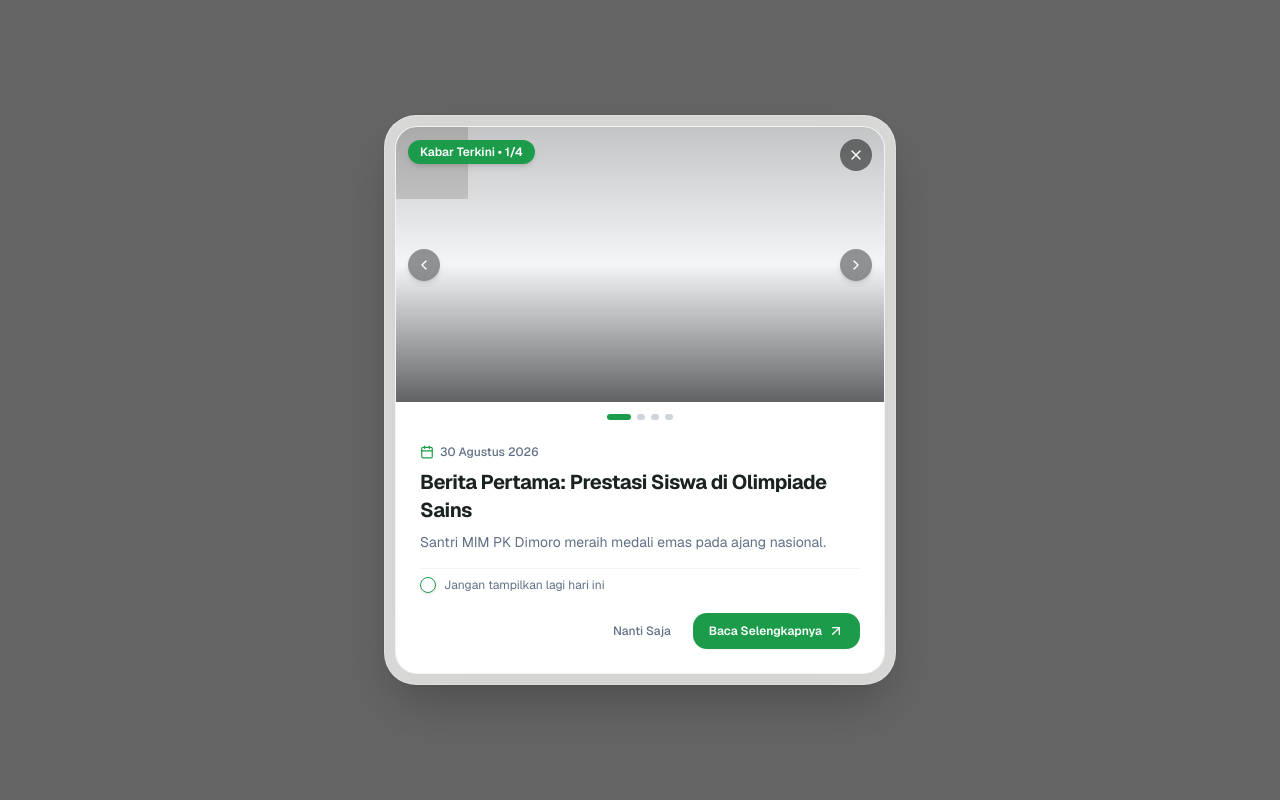
Test: NewsSpotlightModal Component (TDD) › advances currentIndex on next button click and wraps around from last to first
Expected: the heading "Berita Pertama: Prestasi Siswa di Olimpiade Sains" is shown, [420, 468, 860, 524]
Click the button named "berita selanjutnya" at (856, 264), box [840, 248, 872, 280]
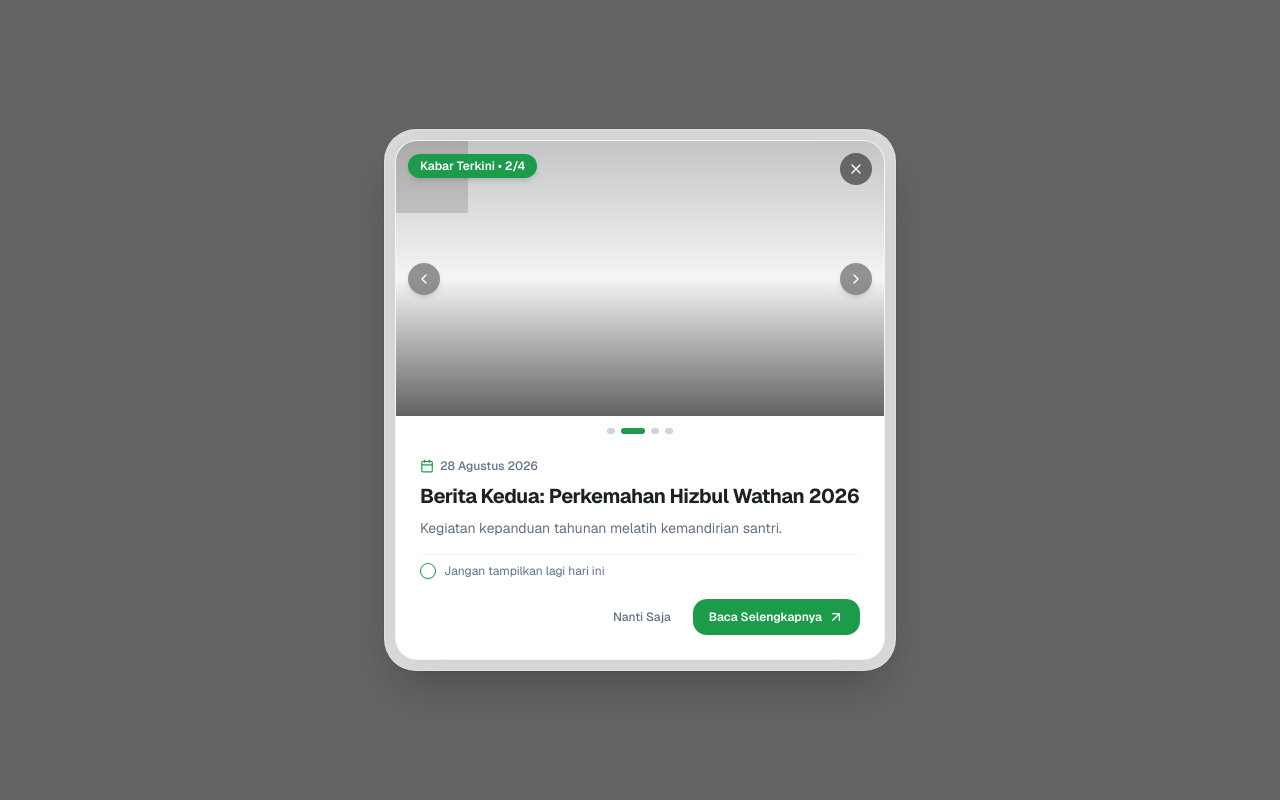
Now the heading "Berita Kedua: Perkemahan Hizbul Wathan 2026" is shown, box [420, 482, 860, 510]
Now the text "Kabar Terkini • 2/4" is shown, box [408, 154, 537, 178]
Click the button named "berita selanjutnya" at (856, 278), box [840, 262, 872, 294]
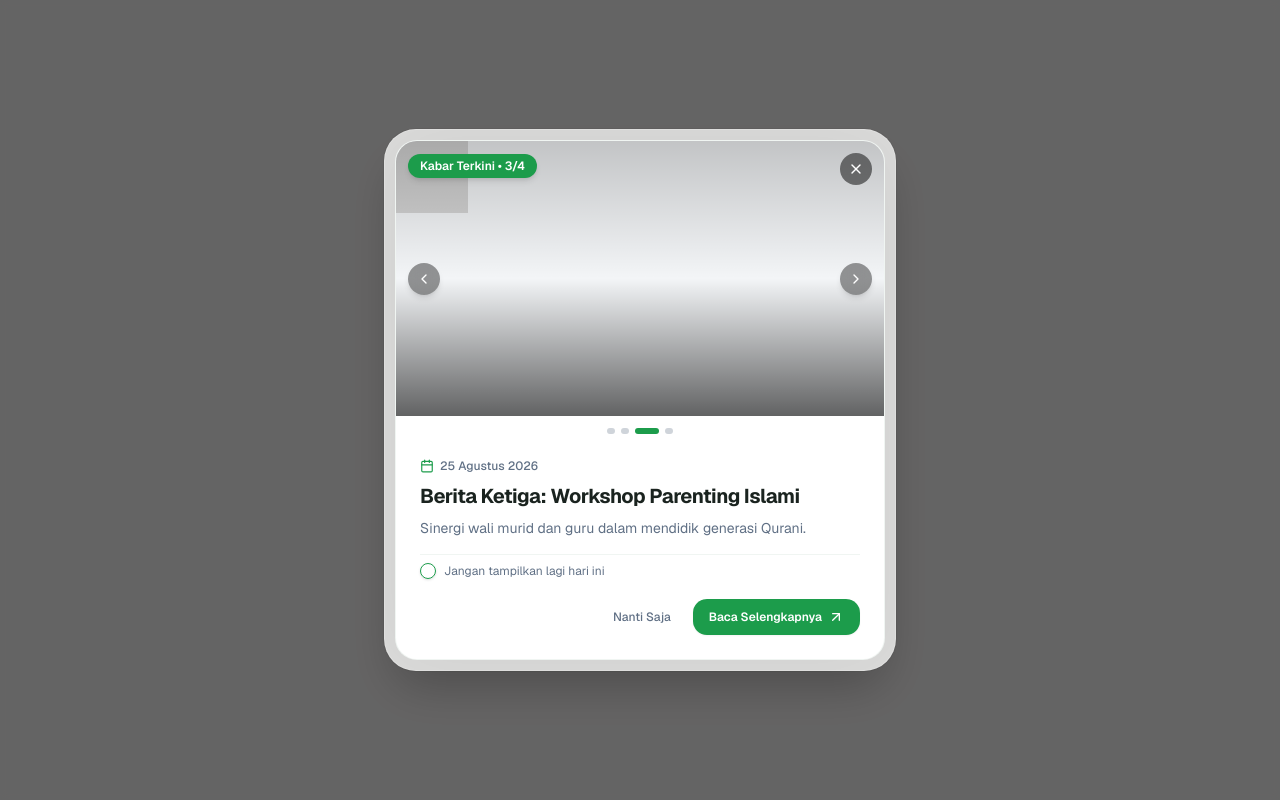
Now the heading "Berita Ketiga: Workshop Parenting Islami" is shown, box [420, 482, 860, 510]
Now the text "Kabar Terkini • 3/4" is shown, box [408, 154, 537, 178]
Click the button named "berita selanjutnya" at (856, 278), box [840, 262, 872, 294]
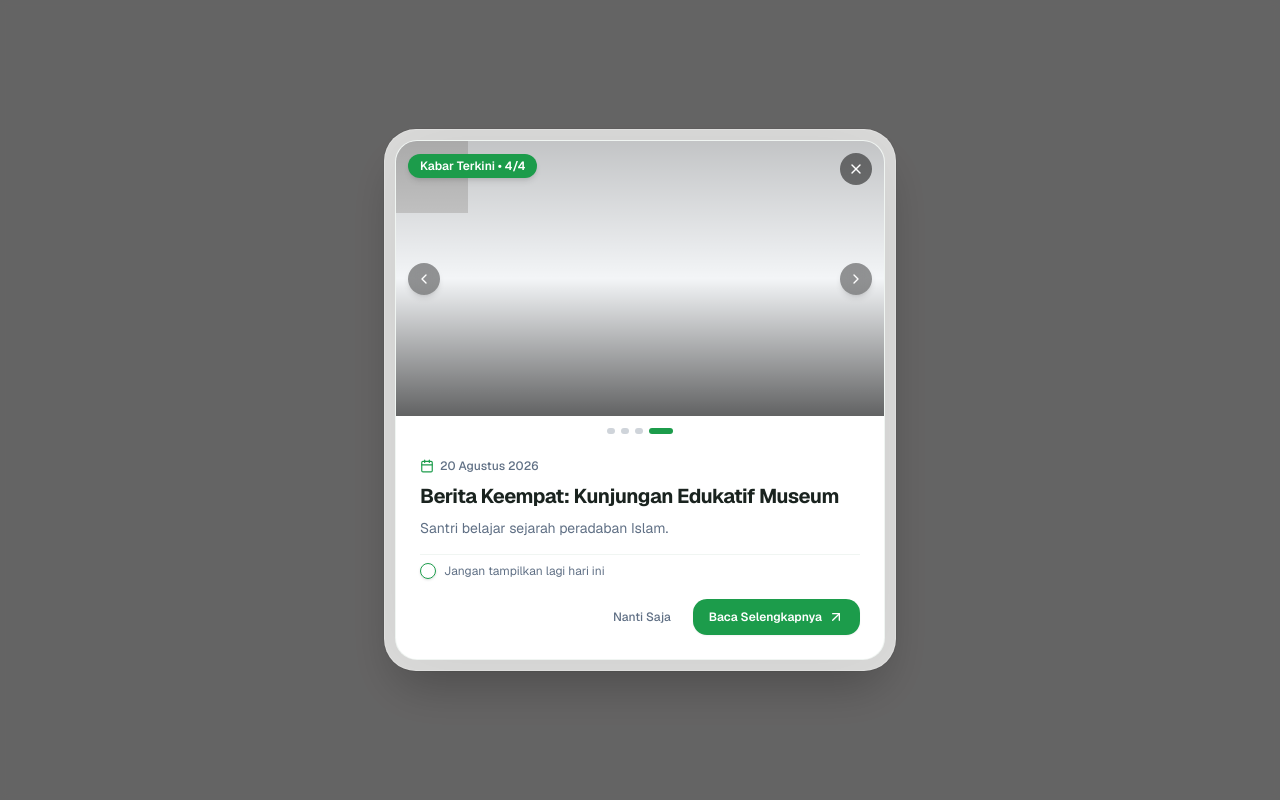
Now the heading "Berita Keempat: Kunjungan Edukatif Museum" is shown, box [420, 482, 860, 510]
Now the text "Kabar Terkini • 4/4" is shown, box [408, 154, 538, 178]
Click the button named "berita selanjutnya" at (856, 278), box [840, 262, 872, 294]
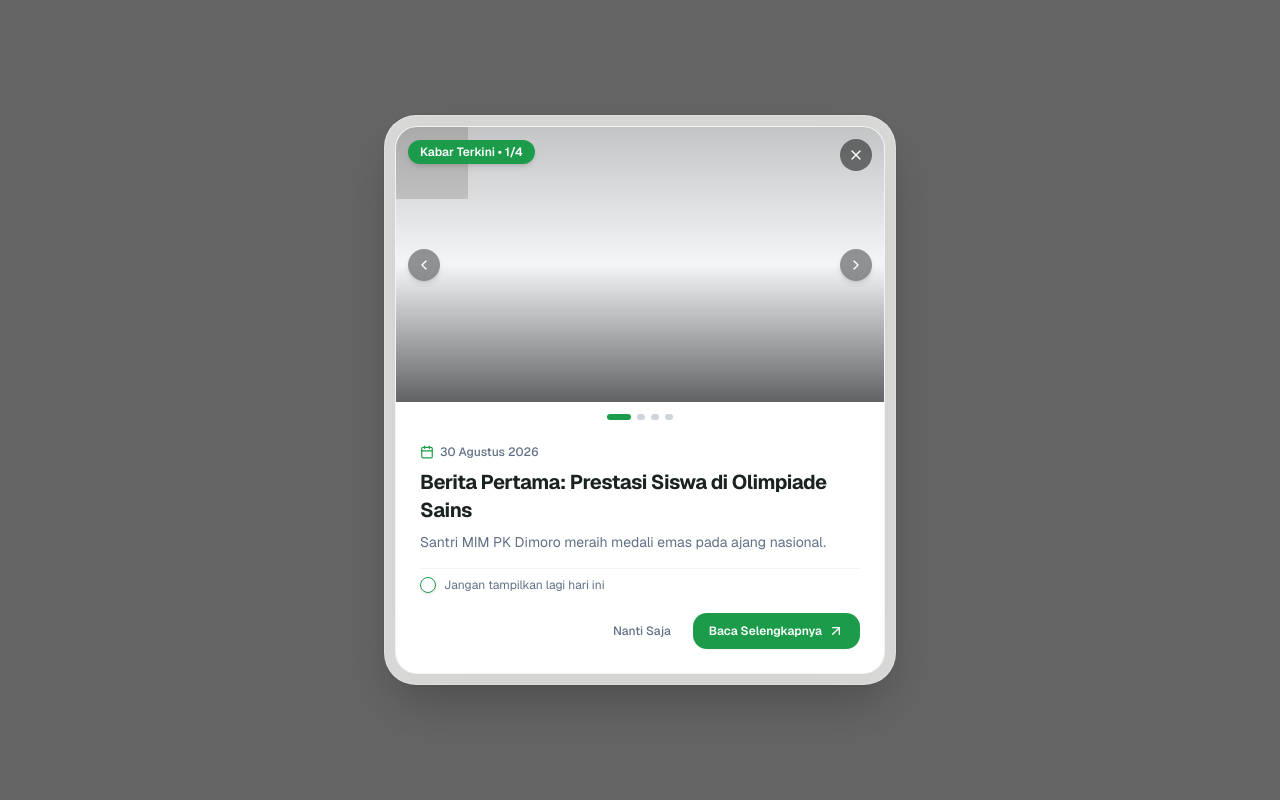
Now the heading "Berita Pertama: Prestasi Siswa di Olimpiade Sains" is shown, box [420, 468, 860, 524]
Now the text "Kabar Terkini • 1/4" is shown, box [408, 140, 535, 164]
